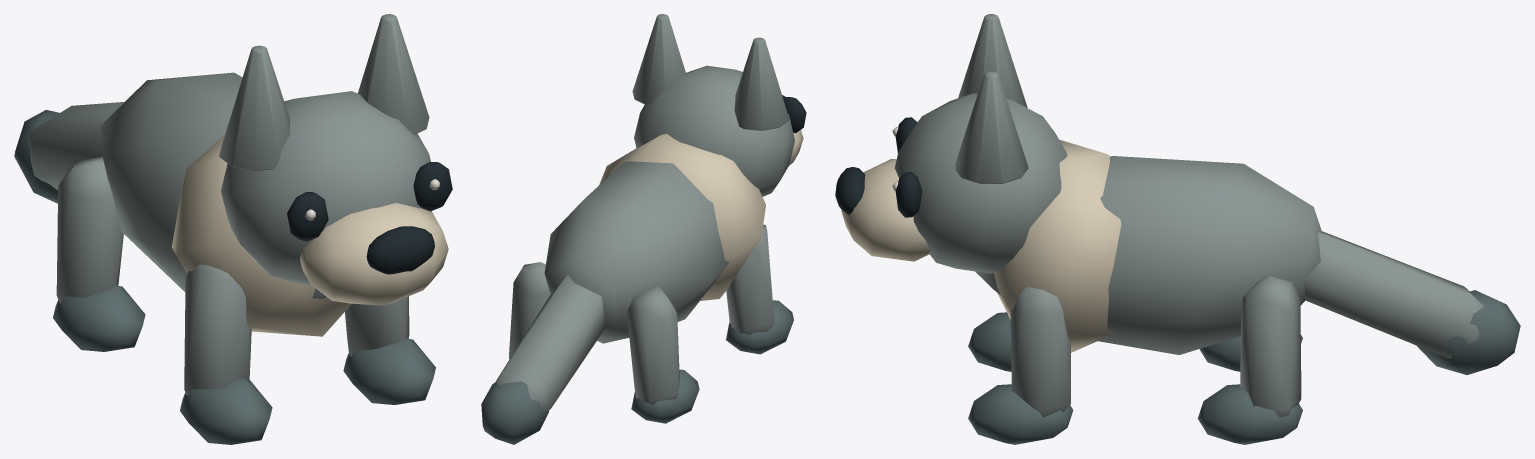
The model's file is org_graywolf.glb.
The picture shows the model from 3 angles, left to right: view 1: azimuth 30°, elevation 25°; view 2: azimuth 150°, elevation 25°; view 3: azimuth 270°, elevation 25°; orthographic projection. The views are drawn at different scales.
Parts seen in each view (by area): view 1: Head, Body, Leg_BR, Leg_FR, Leg_FL, Tail, Eye_R, Eye_L; view 2: Body, Head, Tail, Leg_BR, Leg_FR, Leg_BL, Eye_R; view 3: Body, Head, Tail, Leg_BL, Leg_FL, Leg_FR, Eye_L, Leg_BR.
Part boxes in pixels (left/top/right/bottom): Head: left=219, top=14, right=448, bottom=305; Body: left=100, top=72, right=351, bottom=336; Leg_BR: left=53, top=157, right=145, bottom=351; Leg_FR: left=180, top=264, right=272, bottom=444; Leg_FL: left=343, top=296, right=435, bottom=404; Tail: left=14, top=102, right=124, bottom=203; Eye_R: left=287, top=192, right=328, bottom=241; Eye_L: left=413, top=162, right=452, bottom=211; Body: left=544, top=133, right=765, bottom=343; Head: left=632, top=14, right=803, bottom=196; Tail: left=481, top=275, right=606, bottom=444; Leg_BR: left=627, top=286, right=699, bottom=423; Leg_FR: left=726, top=224, right=793, bottom=354; Leg_BL: left=509, top=262, right=550, bottom=359; Eye_R: left=783, top=97, right=806, bottom=133; Body: left=975, top=140, right=1322, bottom=354; Head: left=835, top=14, right=1067, bottom=273; Tail: left=1305, top=231, right=1520, bottom=374; Leg_BL: left=1198, top=275, right=1302, bottom=444; Leg_FL: left=968, top=287, right=1073, bottom=444; Leg_FR: left=968, top=312, right=1011, bottom=371; Eye_L: left=892, top=172, right=922, bottom=217; Leg_BR: left=1199, top=335, right=1302, bottom=371.
Bounding box in the file's own units: 0.6228 × 1 × 1.73.
